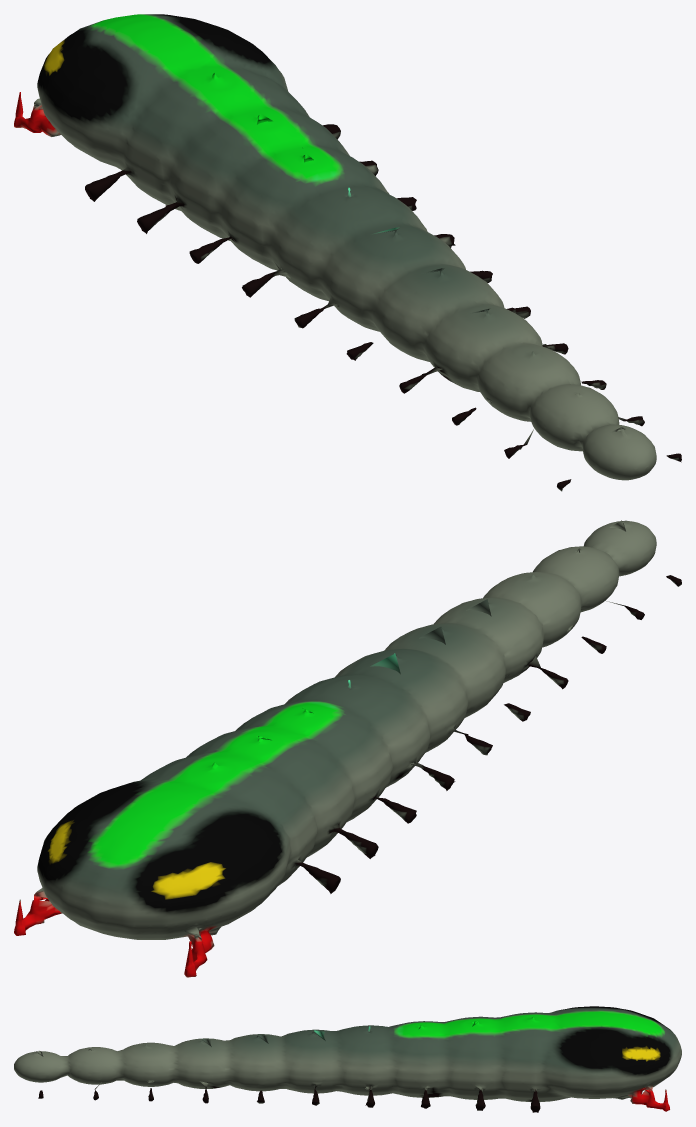
File: the_crawler.glb
3 renders of one model, top to bottom at view 1: azimuth 30°, elevation 25°; view 2: azimuth 150°, elevation 25°; view 3: azimuth 270°, elevation 25°, orthographic. The views are drawn at different scales.
Parts seen in each view (by area): view 1: The_Crawler; view 2: The_Crawler; view 3: The_Crawler.
Part boxes in pixels (left/top/right/bottom): The_Crawler: left=14, top=14, right=681, bottom=491; The_Crawler: left=14, top=520, right=681, bottom=977; The_Crawler: left=14, top=1006, right=681, bottom=1112.
Bounding box in the file's own units: 1.35 × 0.6595 × 5.11.
